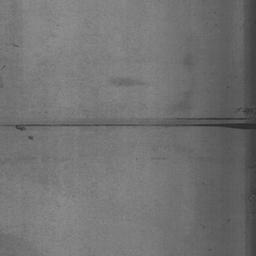Crease: (0, 118, 256, 131), (110, 78, 145, 86)
